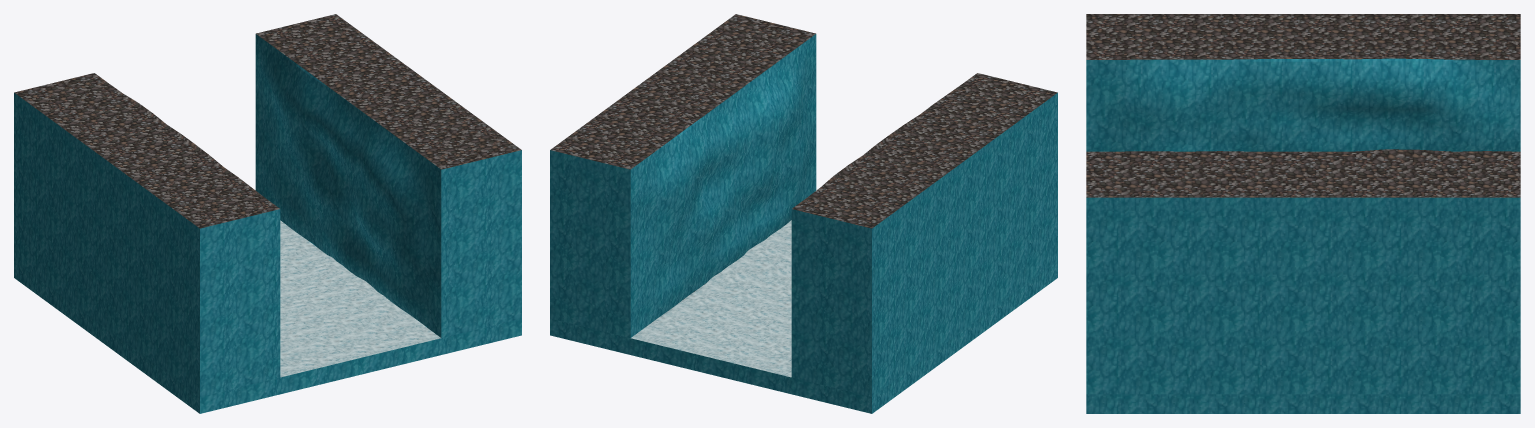
Rendered from Tile_Straight_Ice_v6.fbx.
The picture shows the model from 3 angles, left to right: view 1: azimuth 30°, elevation 25°; view 2: azimuth 150°, elevation 25°; view 3: azimuth 270°, elevation 25°; orthographic projection. The views are drawn at different scales.
Visible parts, largest first — view 1: TileStraight; view 2: TileStraight; view 3: TileStraight.
Boxes of the visible parts, x1,y1,x2,y2 form: TileStraight: [14, 14, 521, 413]; TileStraight: [550, 14, 1057, 413]; TileStraight: [1086, 14, 1520, 413].
Bounding box in the file's own units: 2000 × 1111 × 2000.
Materials: 3 (3 with a texture image).
